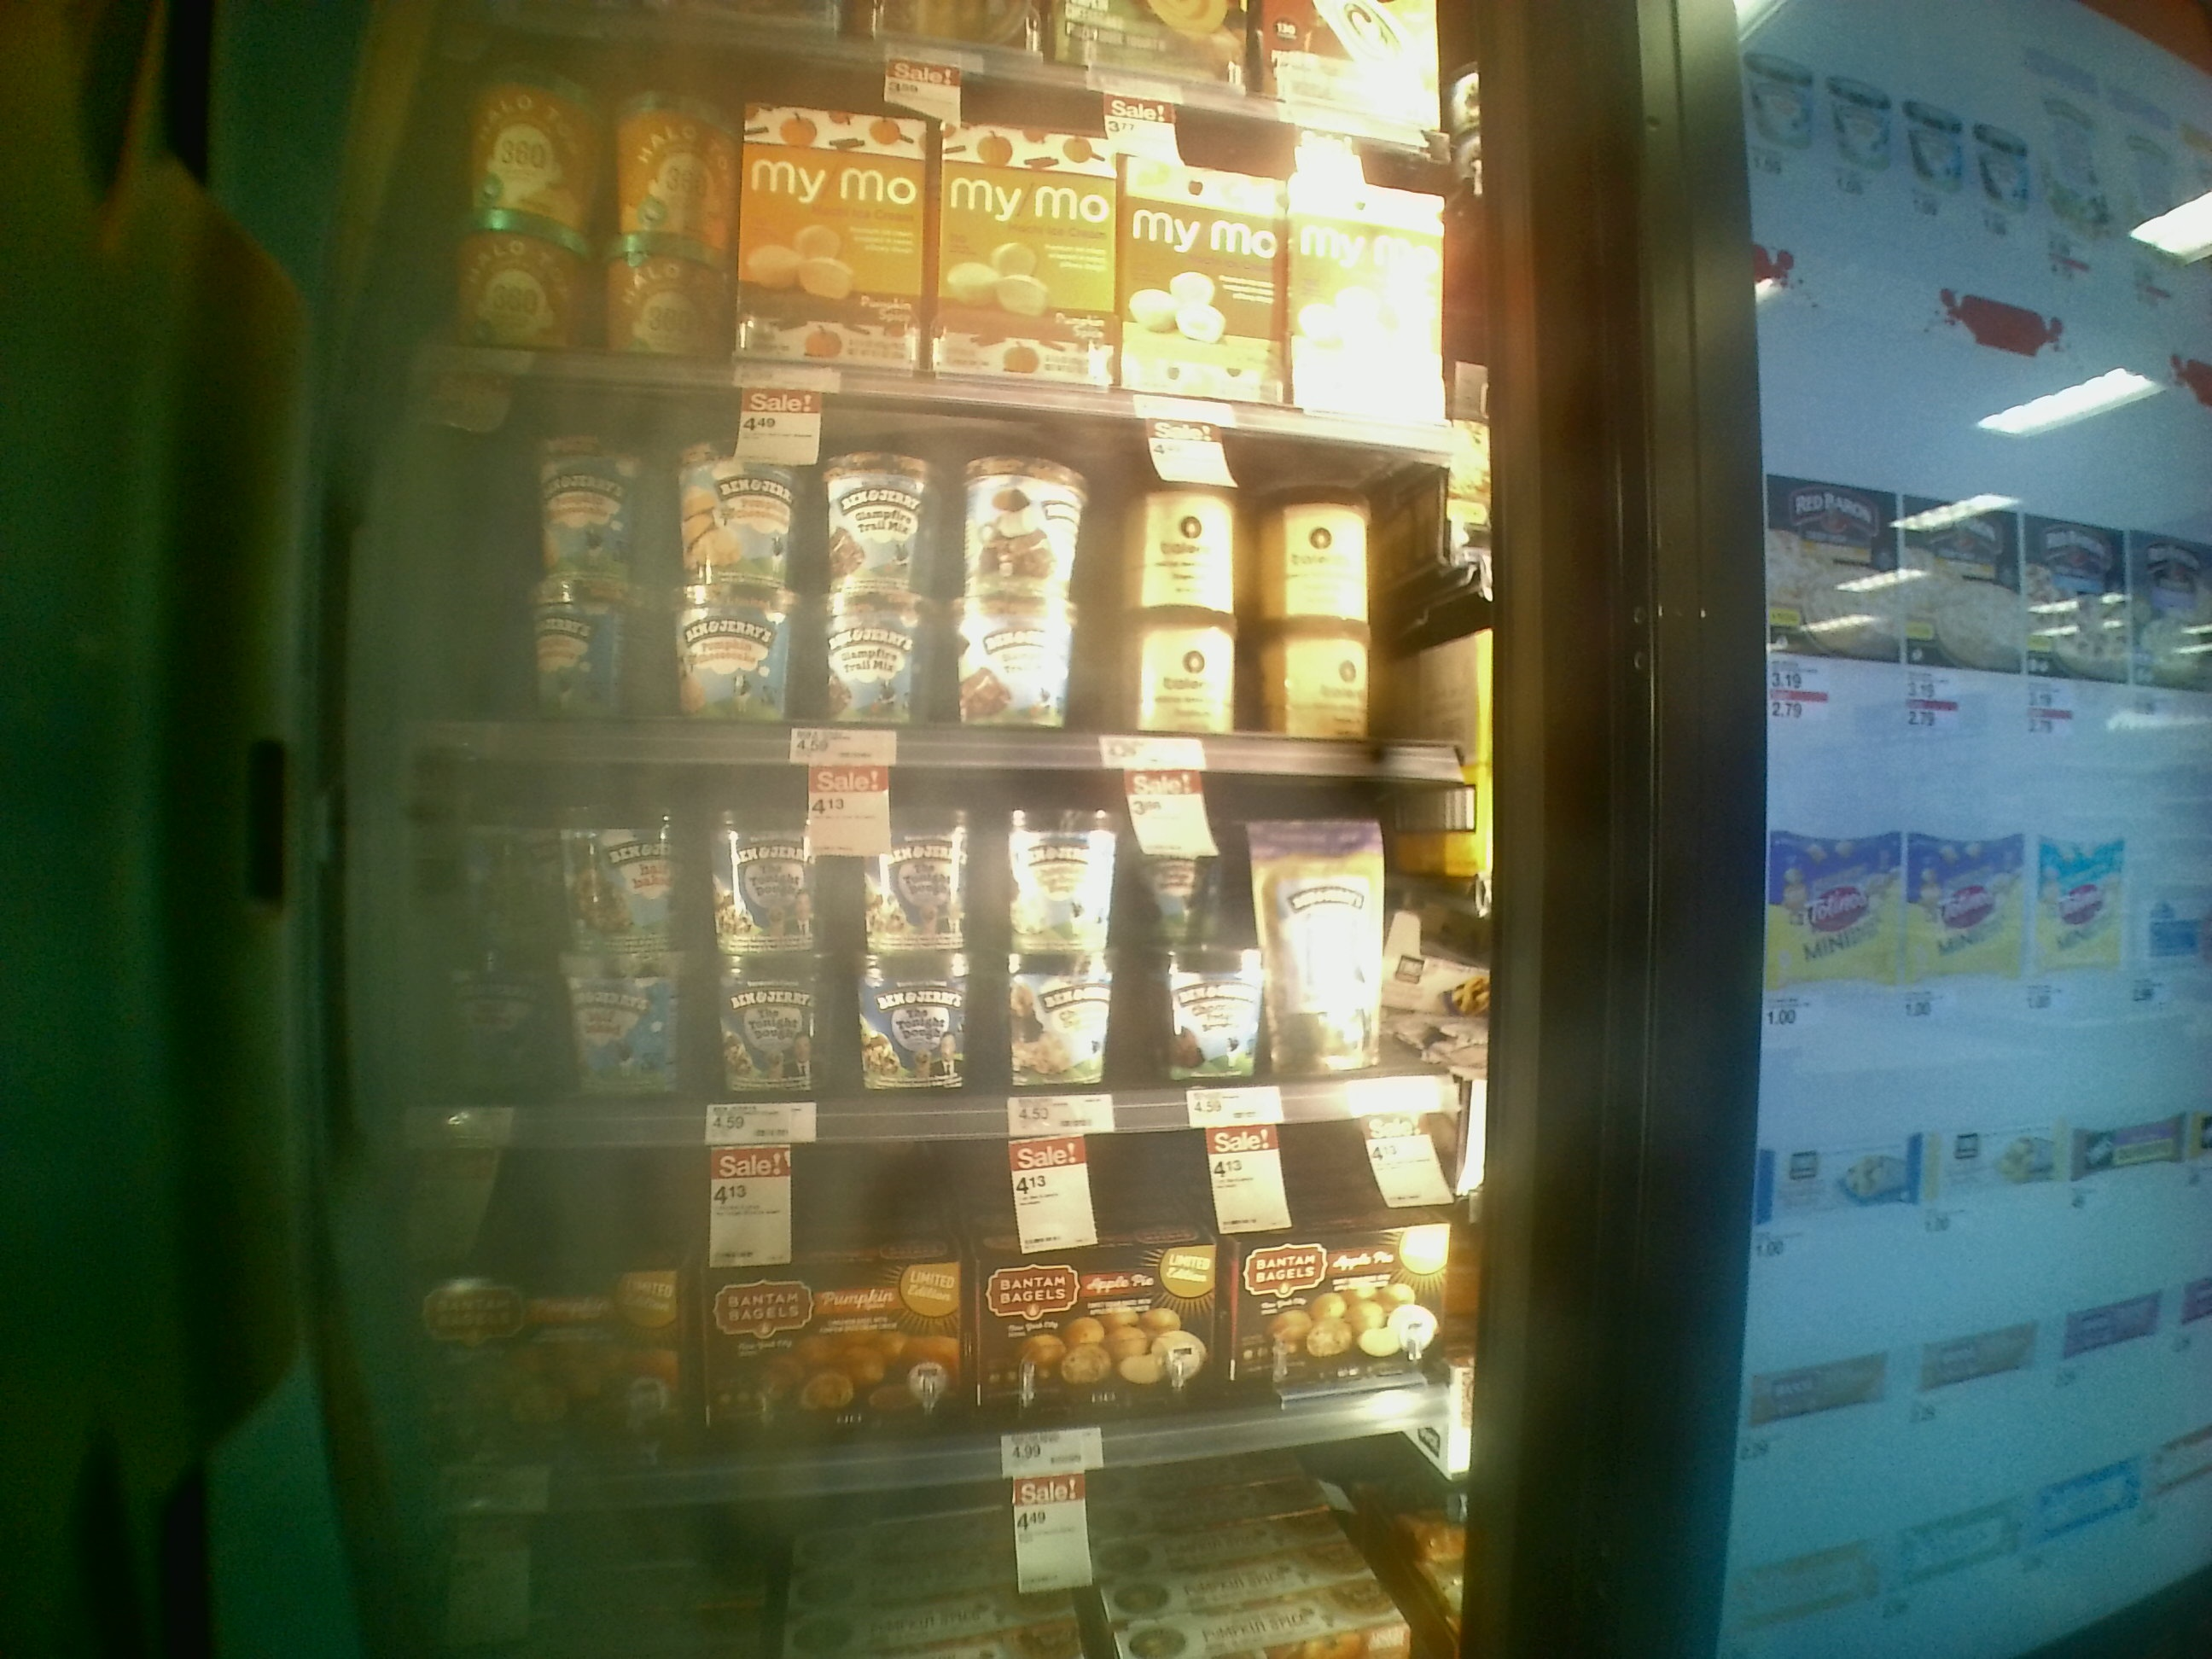shelf: (387, 369, 1496, 779), (374, 748, 1493, 1133), (366, 1133, 1475, 1497)
